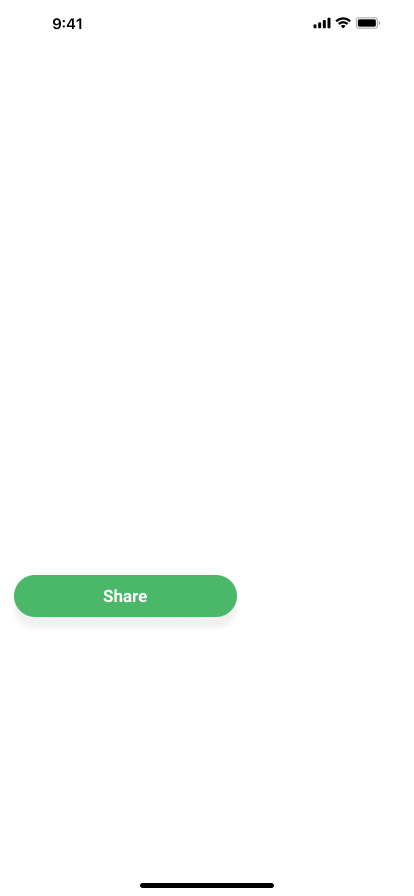Buttons: (8, 575, 243, 634)
Home Indicator: (0, 862, 414, 896)
Status Bar: (0, 0, 414, 44)
